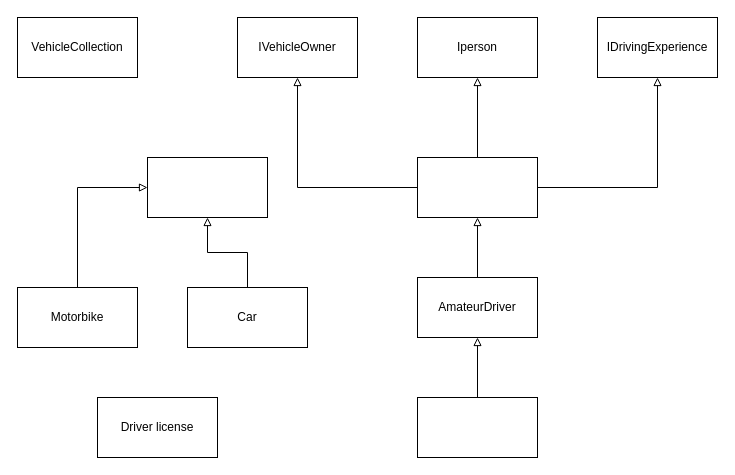
This 735x475 diagram has some shape labels left out. The shapes that lost their labels are listed below. From the top down, each one's box as (x1, y1, x2, y2) in pixels, then its label:
(146, 156, 268, 218): Vehicle (abstract)
(416, 156, 538, 218): Driver
(416, 396, 538, 458): ExperiencedDriver
